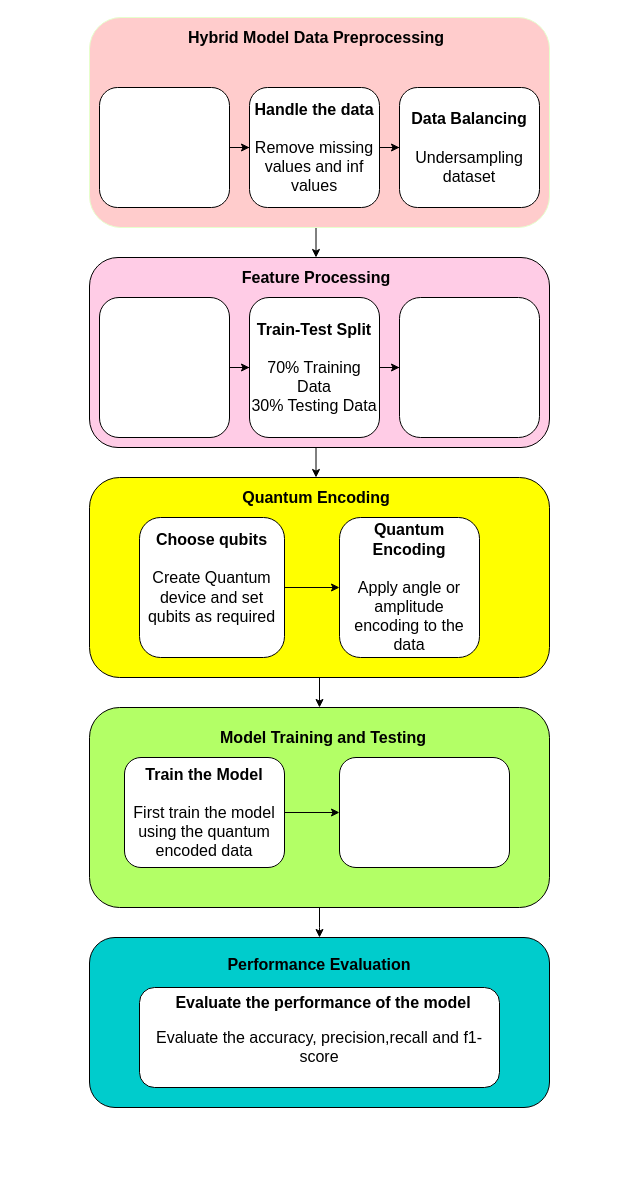
This 636x1184 diagram has some shape labels left out. Each missing label, with the centre of its shape:
"Data Loading Load the network traffic CSV" belongs at point 164,147.
"Feature Scaling Apply feature scaling to the data" belongs at point 469,367.
"Label Encoding Apply Label Encoding for the categorical features" belongs at point 164,367.
"Test the model Test the model using the quantum encoded data" belongs at point 424,812.
